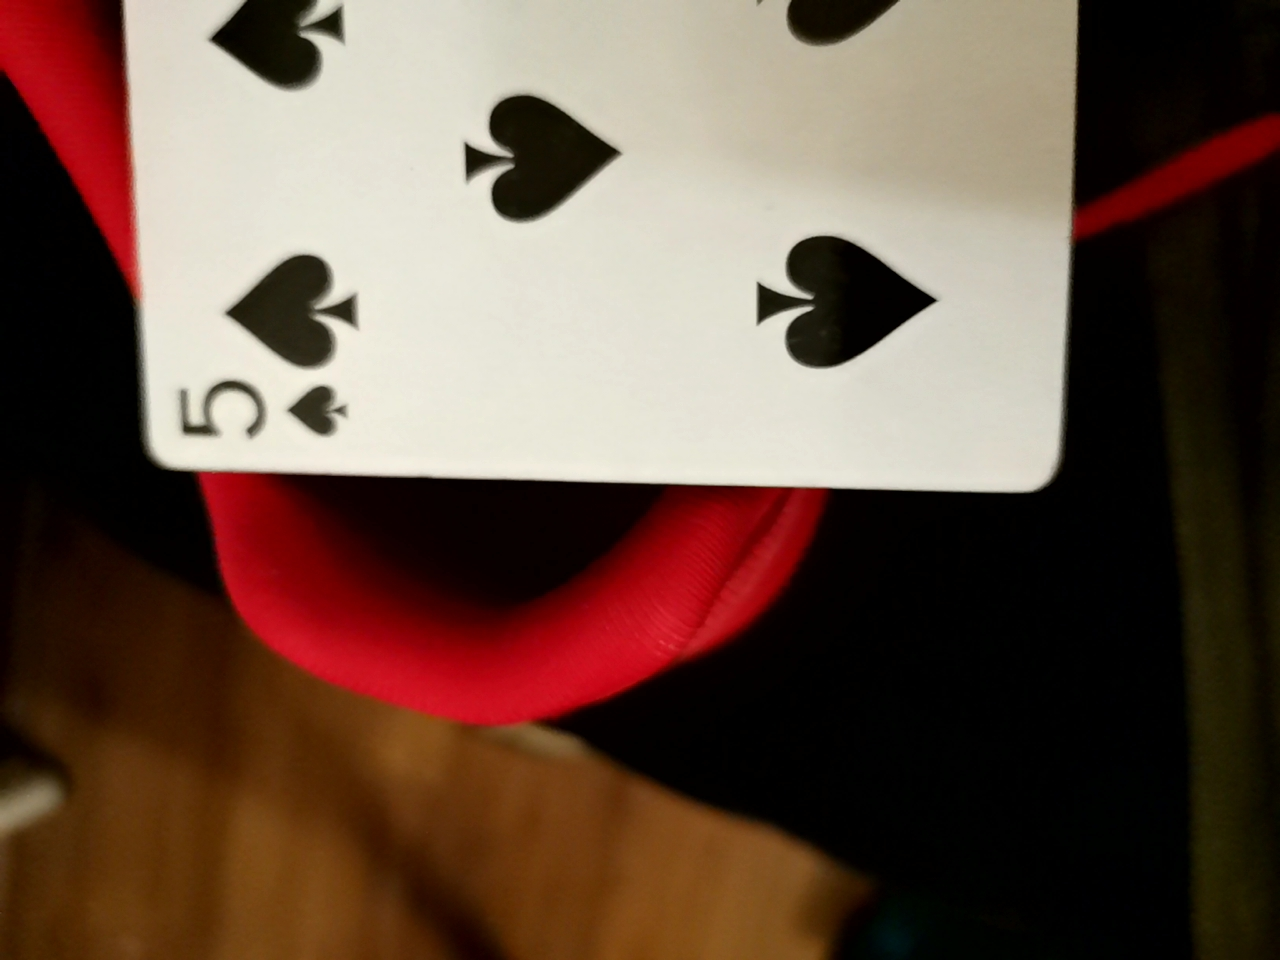ht 5: (89, 5, 1095, 477)
